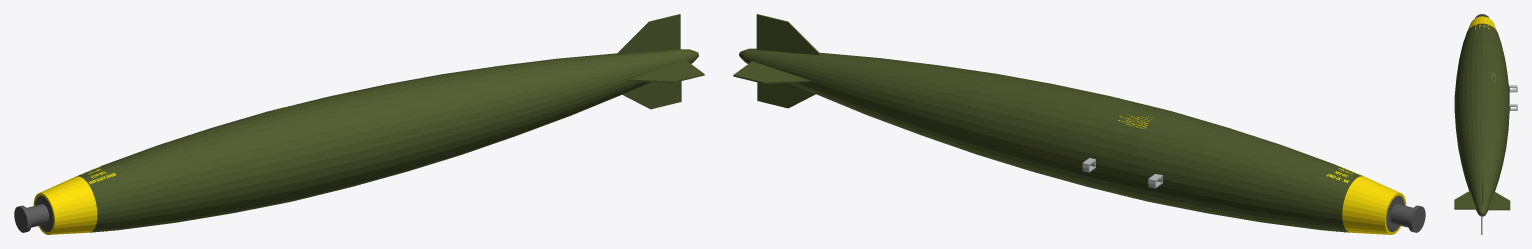
The picture shows the model from 3 angles, left to right: view 1: azimuth 30°, elevation 25°; view 2: azimuth 150°, elevation 25°; view 3: azimuth 270°, elevation 25°; orthographic projection. The views are drawn at different scales.
Visible parts, largest first — view 1: MK82 Body, Fin Left, Fin Right, Fin Down; view 2: MK82 Body, Fin Left, Fin Right, Fin Up; view 3: MK82 Body, Fin Up, Fin Down, Fin Left.
Boxes of the visible parts, x1=… form: MK82 Body: x1=14, y1=49, x2=698, y2=234; Fin Left: x1=616, y1=14, x2=680, y2=54; Fin Right: x1=622, y1=81, x2=681, y2=109; Fin Down: x1=628, y1=60, x2=704, y2=82; MK82 Body: x1=739, y1=48, x2=1425, y2=234; Fin Left: x1=756, y1=14, x2=821, y2=55; Fin Right: x1=757, y1=82, x2=815, y2=108; Fin Up: x1=733, y1=61, x2=809, y2=83; MK82 Body: x1=1454, y1=14, x2=1517, y2=216; Fin Up: x1=1488, y1=191, x2=1510, y2=210; Fin Down: x1=1454, y1=191, x2=1476, y2=209; Fin Left: x1=1482, y1=175, x2=1483, y2=204.
Size of the model in its own units: 33.31 by 29.38 by 240.
Materials: 6 (2 with a texture image).
